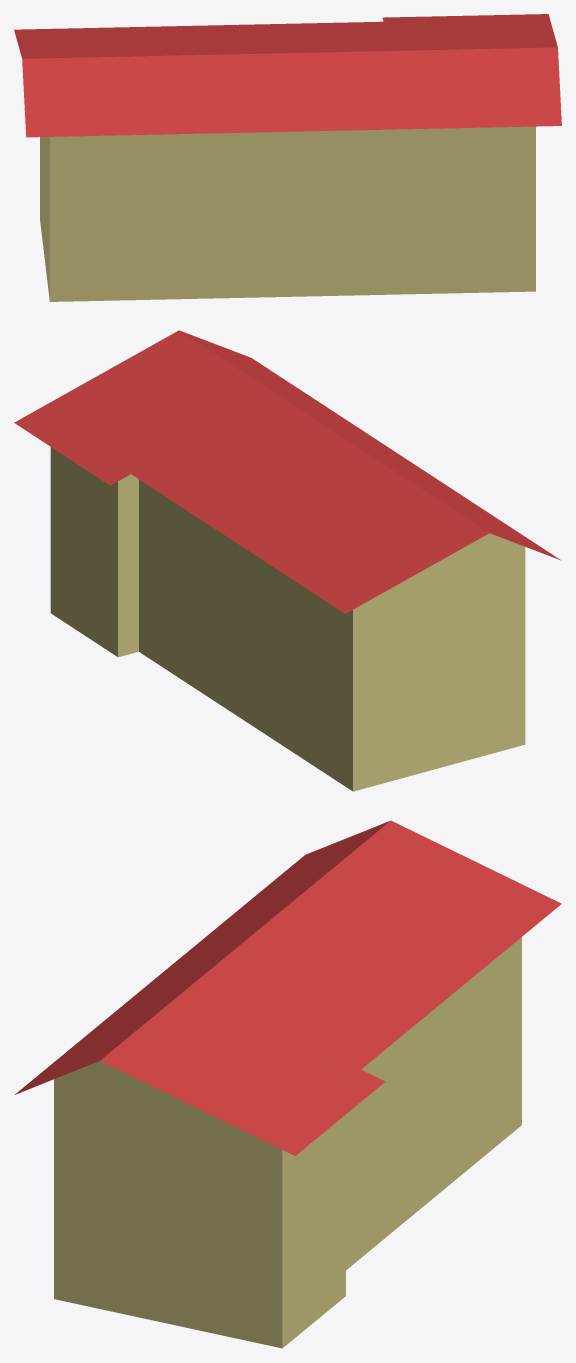
3 renders of one model, top to bottom at view 1: azimuth 30°, elevation 25°; view 2: azimuth 150°, elevation 25°; view 3: azimuth 270°, elevation 25°, orthographic. The views are drawn at different scales.
Bounding box in the file's own units: 18 × 13.84 × 7.3.
